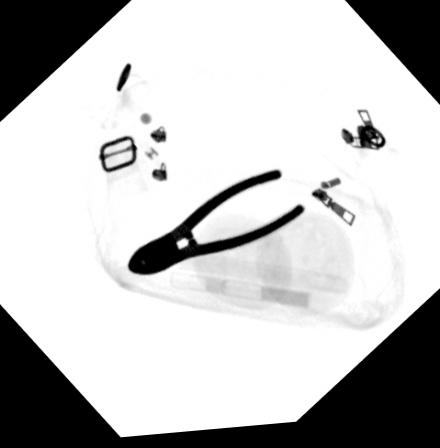Pliers: (125, 174, 304, 279)
